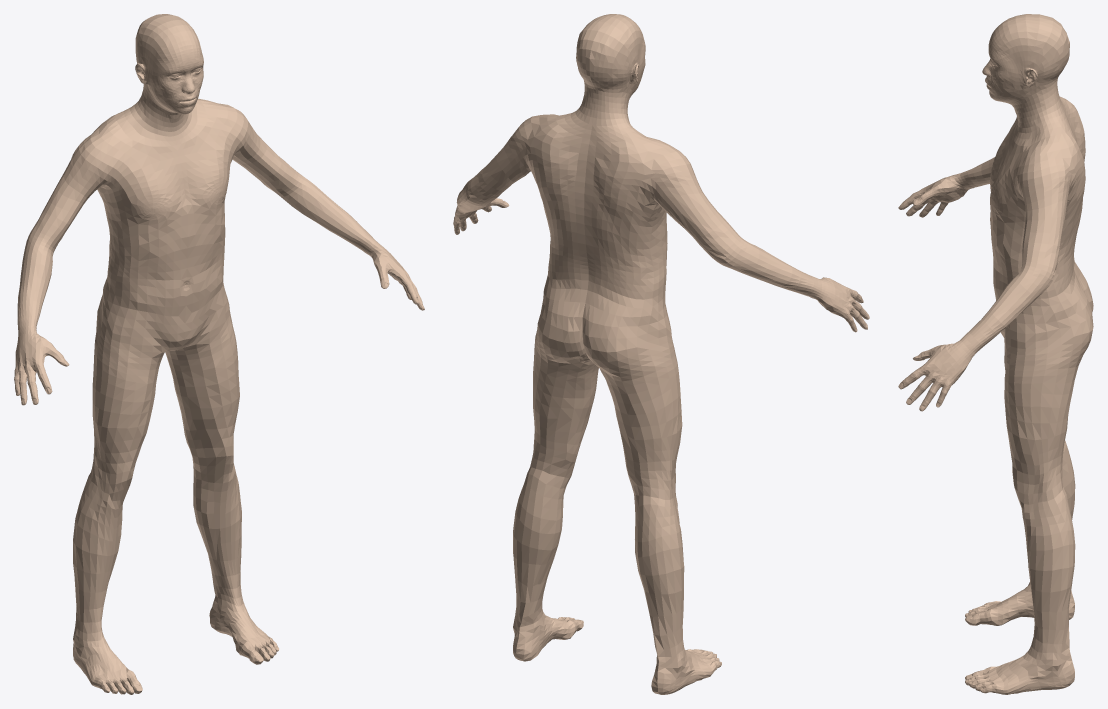
The model's file is male-young-average-toned.glb.
The picture shows the model from 3 angles, left to right: view 1: azimuth 30°, elevation 25°; view 2: azimuth 150°, elevation 25°; view 3: azimuth 270°, elevation 25°; orthographic projection.
Visible parts, largest first — view 1: world; view 2: world; view 3: world.
Part boxes in pixels (left/top/right/bottom): world: left=14, top=14, right=424, bottom=694; world: left=453, top=14, right=869, bottom=694; world: left=898, top=14, right=1093, bottom=694.
Bounding box in the file's own units: 1.24 × 1.89 × 0.5243.
